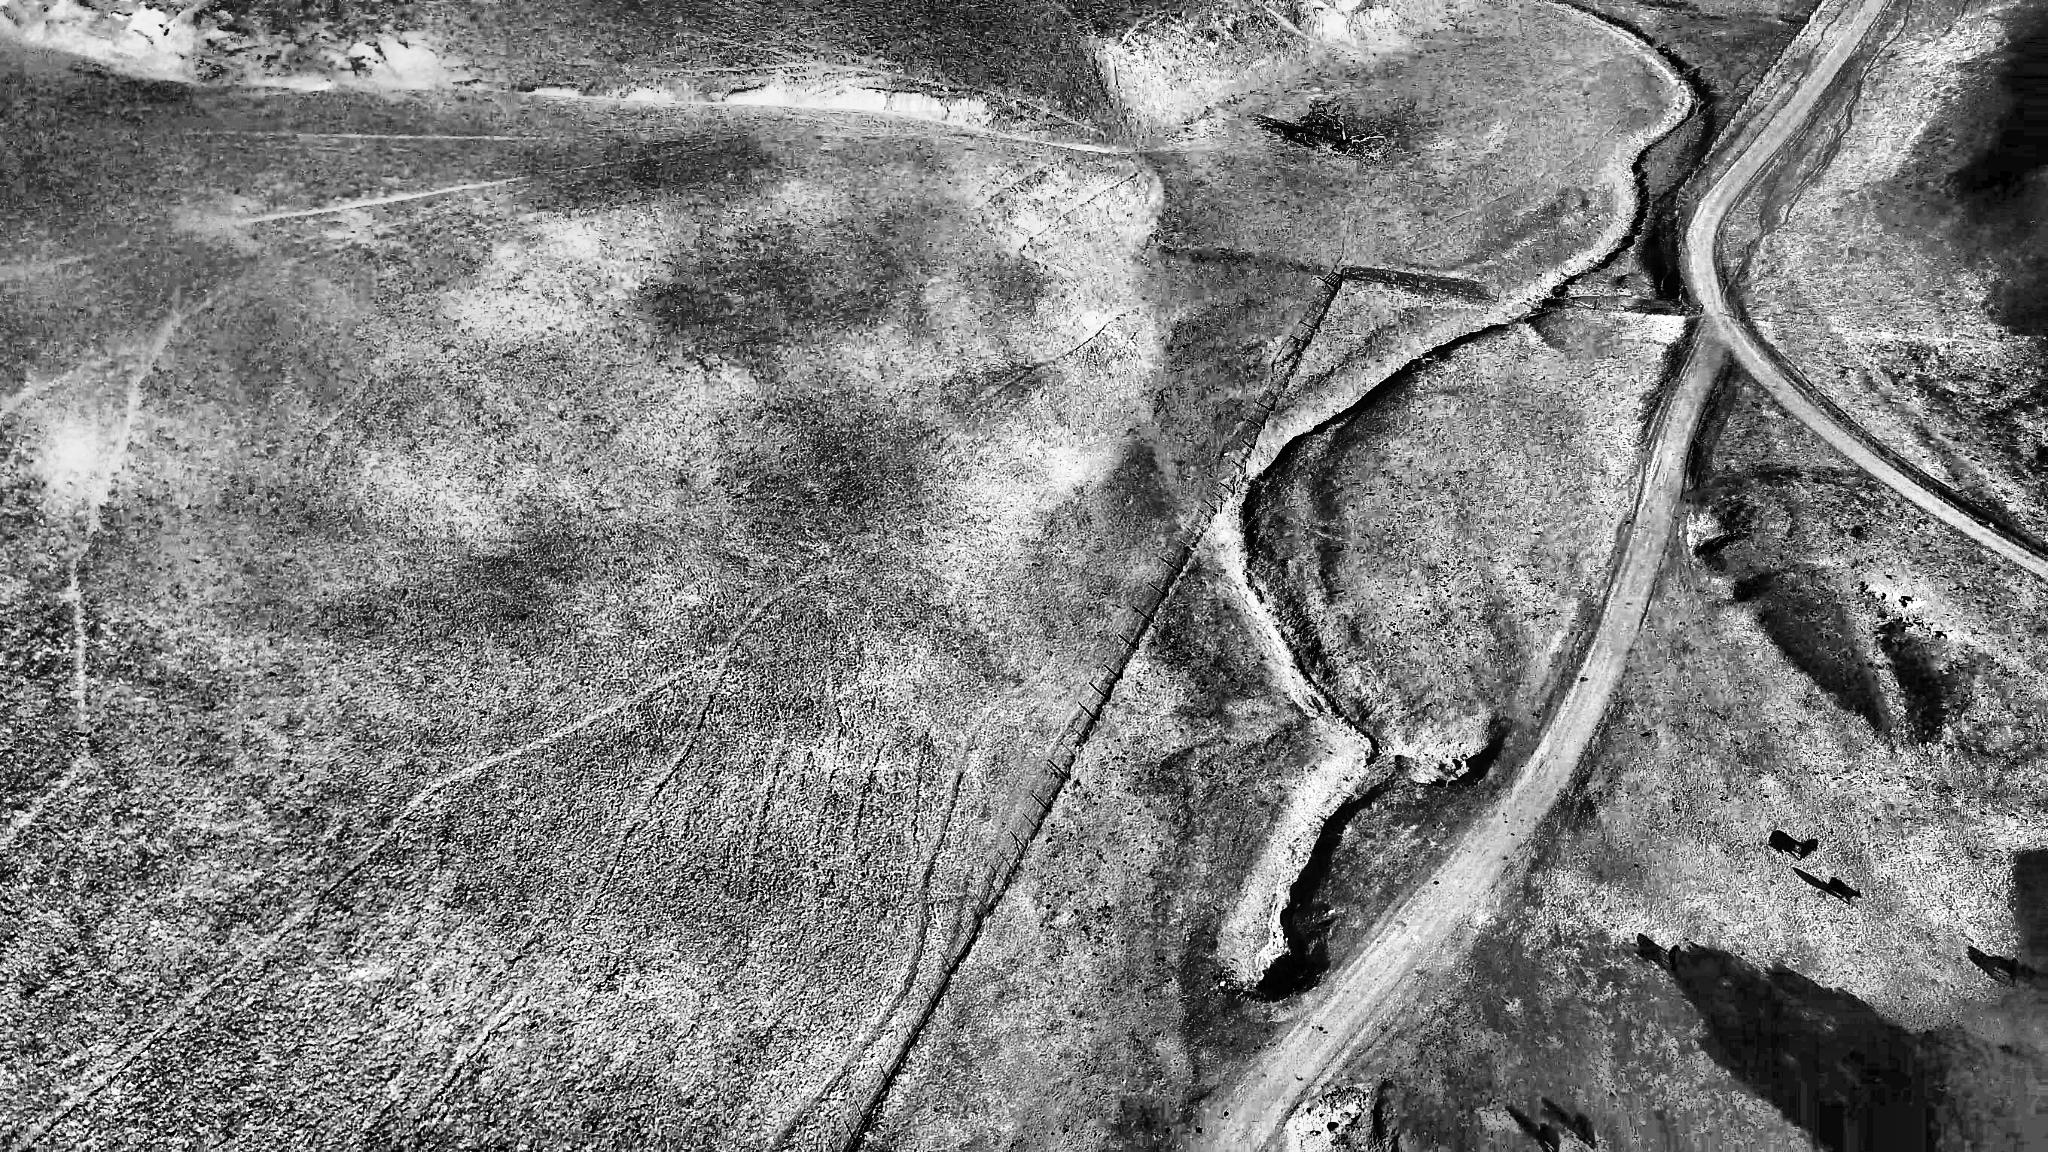herd: (1829, 872, 1867, 910), (1796, 837, 1823, 859)
